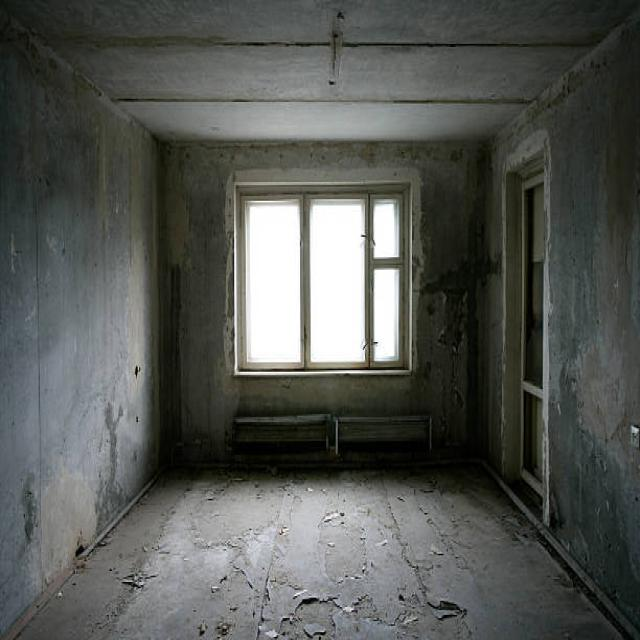floor: (4, 453, 640, 640)
wall: (160, 142, 493, 461), (0, 6, 164, 640), (485, 7, 640, 637), (233, 180, 414, 376)
